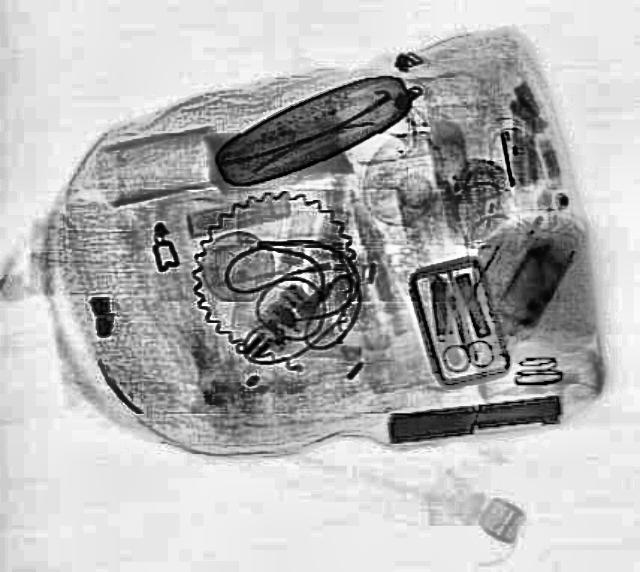Scissors: (420, 287, 496, 373)
